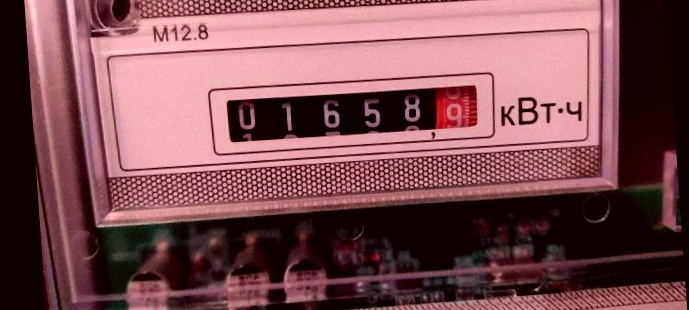0: (235, 99, 257, 130)
1: (278, 99, 297, 132)
5: (360, 95, 383, 128)
6: (320, 95, 342, 129)
8: (400, 89, 423, 123)
9: (441, 101, 464, 130)
screen: (197, 60, 502, 164)
